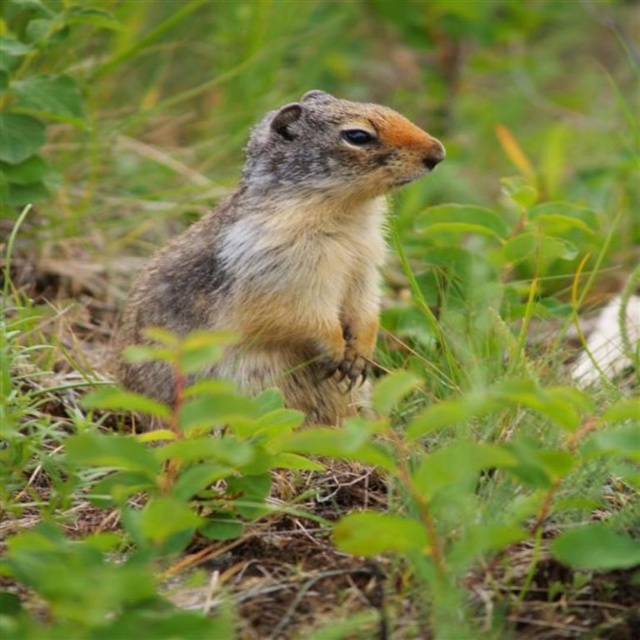Squirrel: (108, 89, 450, 447)
